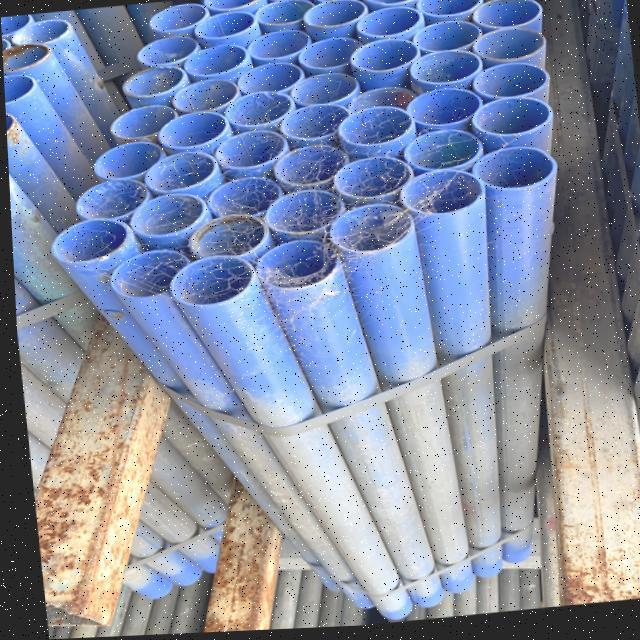pipe: (161, 251, 260, 313), (459, 142, 558, 203), (319, 202, 415, 262), (464, 2, 546, 68), (334, 92, 414, 156), (326, 150, 414, 207), (393, 168, 481, 224), (120, 189, 206, 246), (466, 94, 554, 146), (258, 187, 340, 242), (205, 124, 289, 177), (48, 214, 130, 268), (137, 146, 221, 198), (67, 173, 147, 225), (402, 84, 484, 134), (396, 128, 478, 178), (220, 82, 300, 133), (265, 146, 348, 193), (404, 46, 484, 94), (150, 107, 228, 156), (86, 139, 164, 188), (466, 63, 548, 109), (343, 36, 421, 82), (175, 36, 252, 82), (123, 32, 208, 72), (100, 102, 177, 146), (166, 74, 242, 118), (272, 103, 353, 144), (1, 18, 67, 68), (279, 68, 361, 108), (238, 28, 318, 68), (292, 33, 368, 74), (229, 61, 306, 100), (188, 7, 265, 46), (296, 0, 374, 38), (113, 64, 190, 102), (136, 0, 213, 37), (4, 16, 76, 48), (248, 0, 318, 30), (412, 0, 485, 28), (193, 0, 273, 19), (2, 69, 40, 108), (356, 0, 430, 15), (1, 13, 36, 38), (306, 0, 374, 9), (5, 108, 16, 144)
